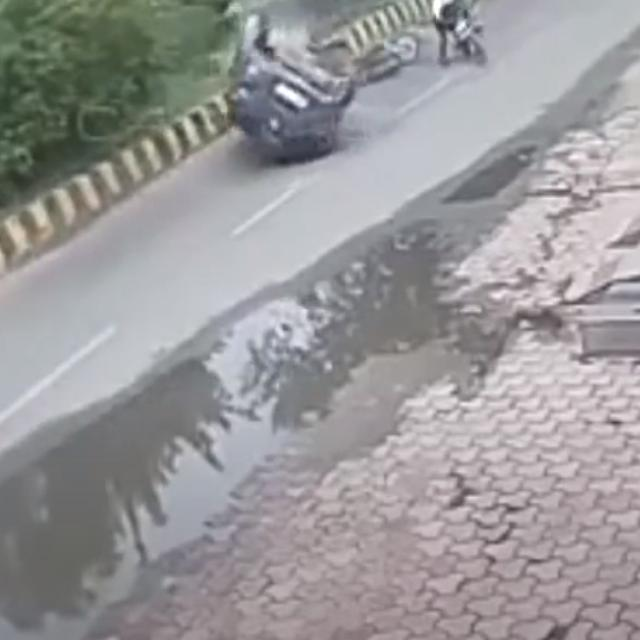accident: (223, 1, 492, 170)
